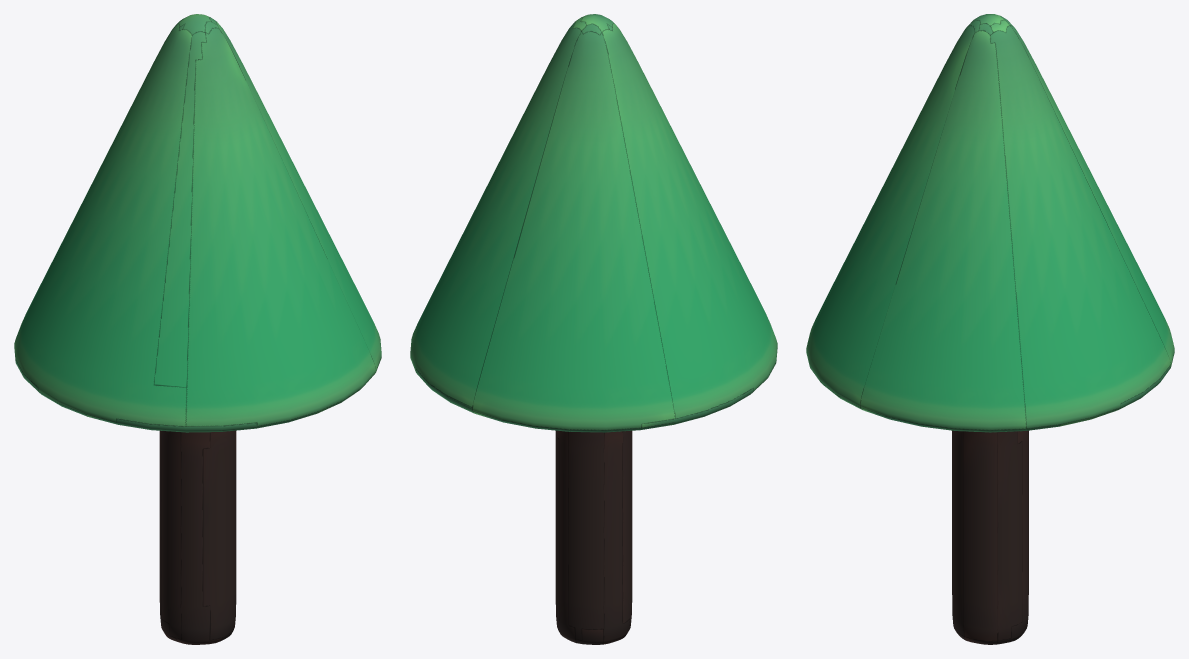
Rendered from arvore_1_Texturizada.fbx.
3 renders of one model, left to right at view 1: azimuth 30°, elevation 25°; view 2: azimuth 150°, elevation 25°; view 3: azimuth 270°, elevation 25°, orthographic.
Visible parts, largest first — view 1: arvore_1-high; view 2: arvore_1-high; view 3: arvore_1-high.
Boxes of the visible parts, bbox=[...] form: arvore_1-high: bbox=[14, 14, 381, 644]; arvore_1-high: bbox=[410, 14, 777, 644]; arvore_1-high: bbox=[806, 14, 1174, 644].
Bounding box in the file's own units: 173 × 319 × 173.
1 material, 1 textured.
